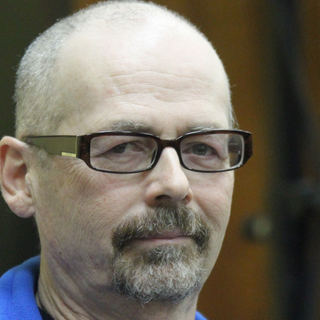eye: (97, 139, 147, 162), (179, 139, 225, 162)
